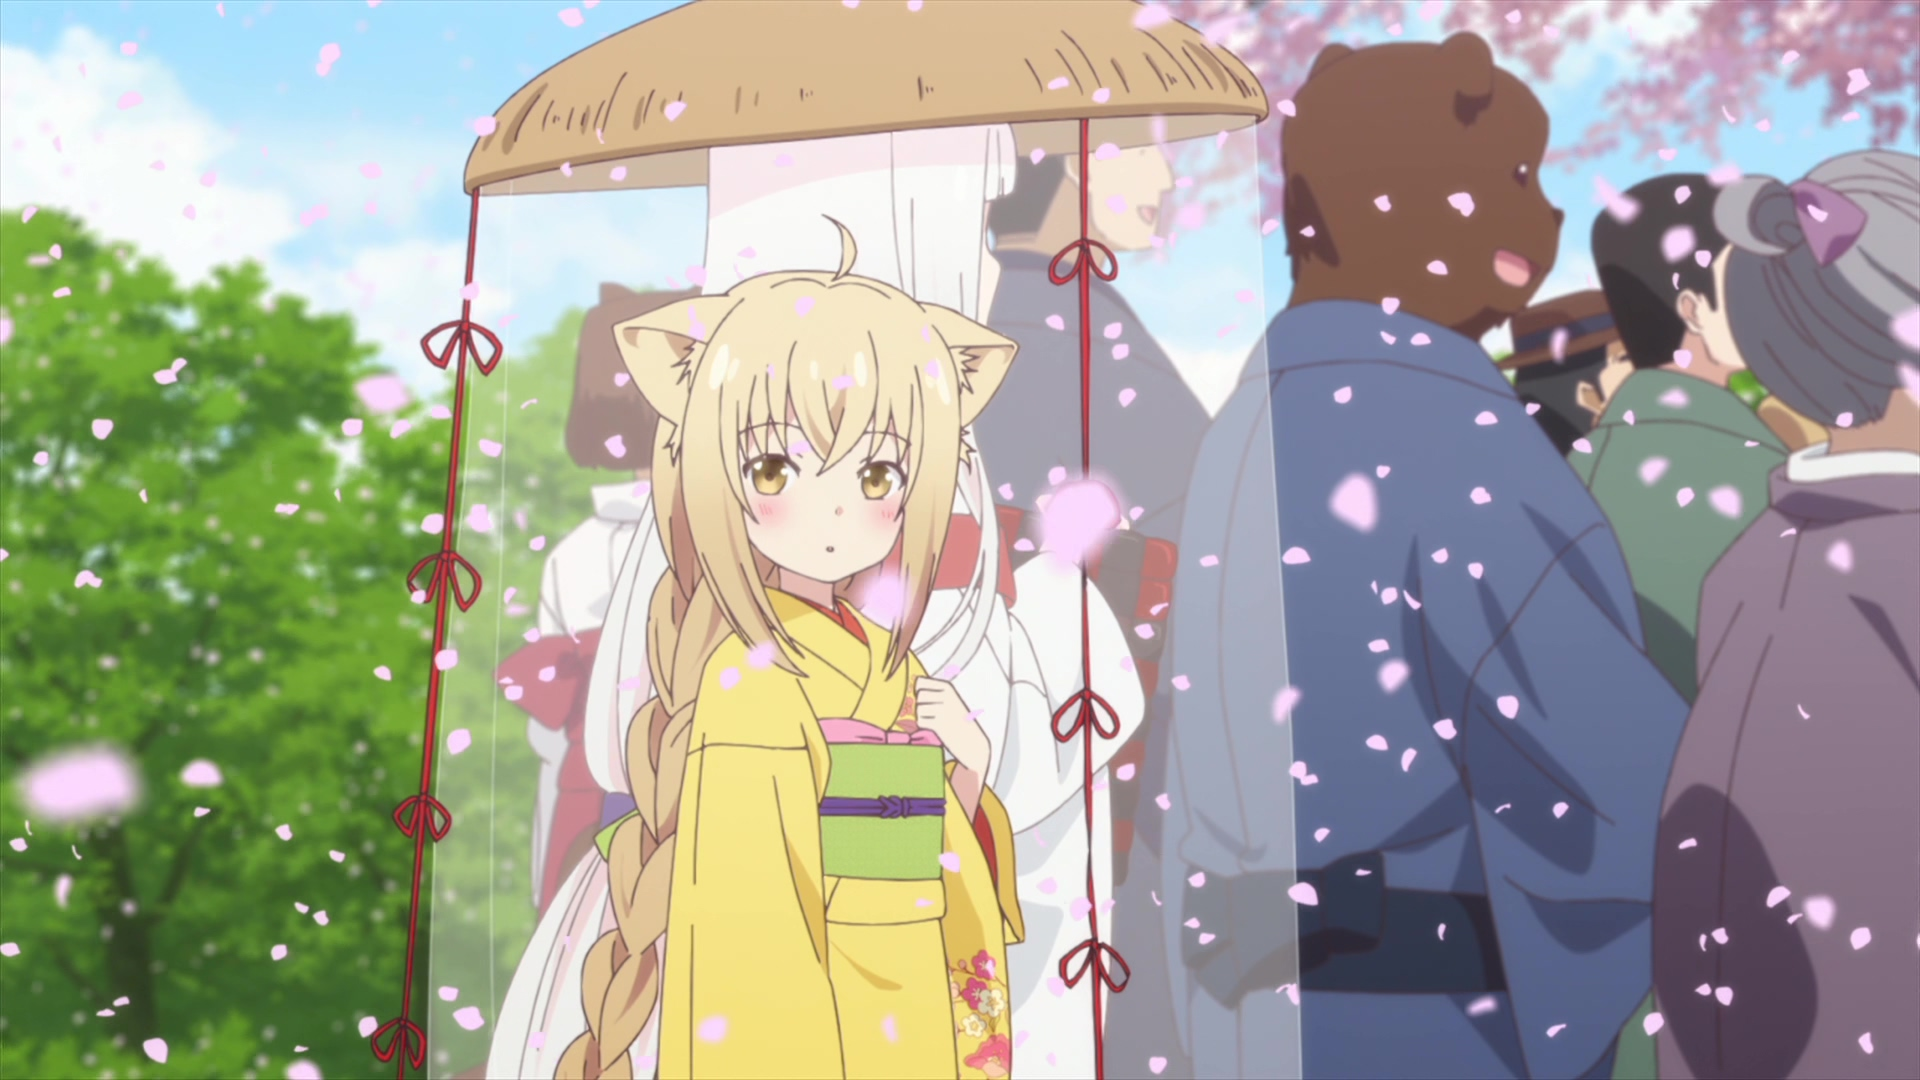其他: (369, 1, 1303, 1080), (1158, 34, 1689, 1080), (1651, 149, 1920, 1080), (975, 146, 1212, 1080), (1592, 175, 1791, 1080), (502, 284, 703, 920), (1510, 289, 1630, 463)
柚: (553, 214, 1029, 1080)
